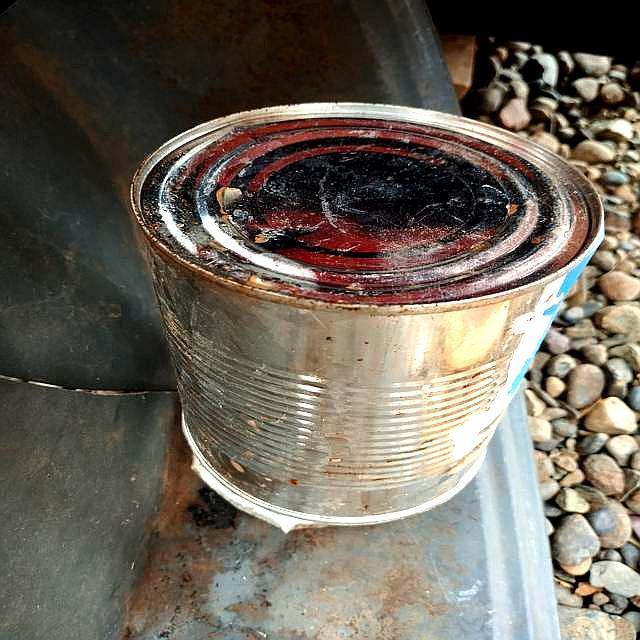Non-biodegradable: (127, 99, 606, 534)
